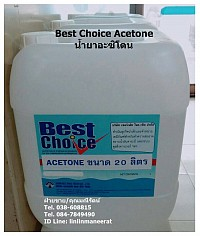Cleaning_solution: (8, 25, 192, 231)
